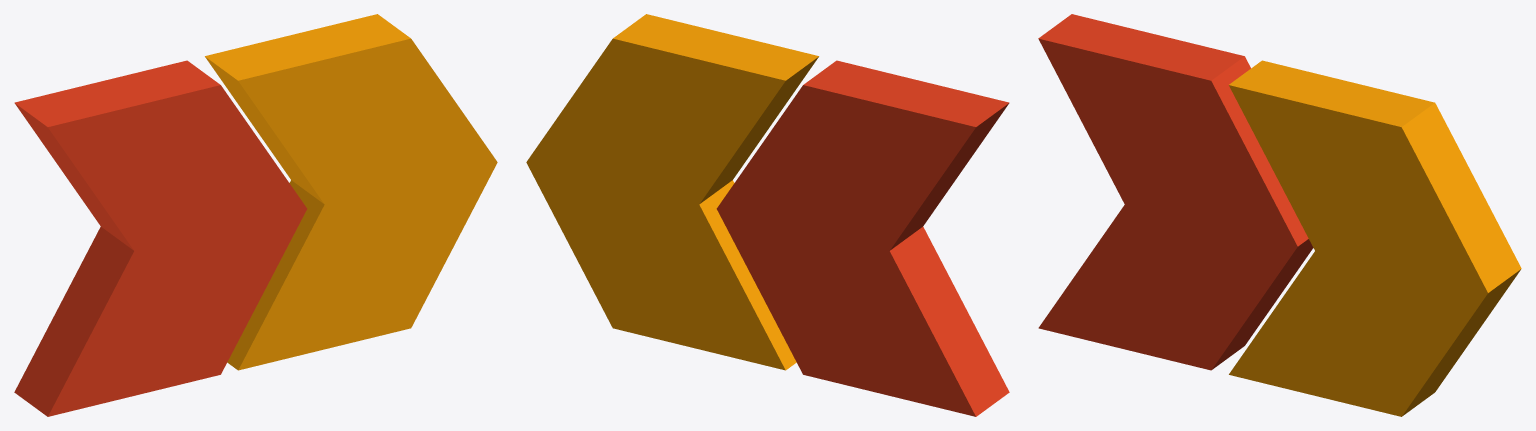
Rendered from swipe.fbx.
The picture shows the model from 3 angles, left to right: view 1: azimuth 30°, elevation 25°; view 2: azimuth 150°, elevation 25°; view 3: azimuth 330°, elevation 25°; orthographic projection.
Visible parts, largest first — view 1: swipe_2, swipe_1; view 2: swipe_2, swipe_1; view 3: swipe_1, swipe_2.
Boxes of the visible parts, <box> form: swipe_2: <box>14,60,307,416</box>; swipe_1: <box>205,14,497,370</box>; swipe_2: <box>716,60,1009,416</box>; swipe_1: <box>526,14,818,370</box>; swipe_1: <box>1229,60,1521,416</box>; swipe_2: <box>1038,14,1313,370</box>.
Size of the model in its own units: 190 by 117 by 24.58.
